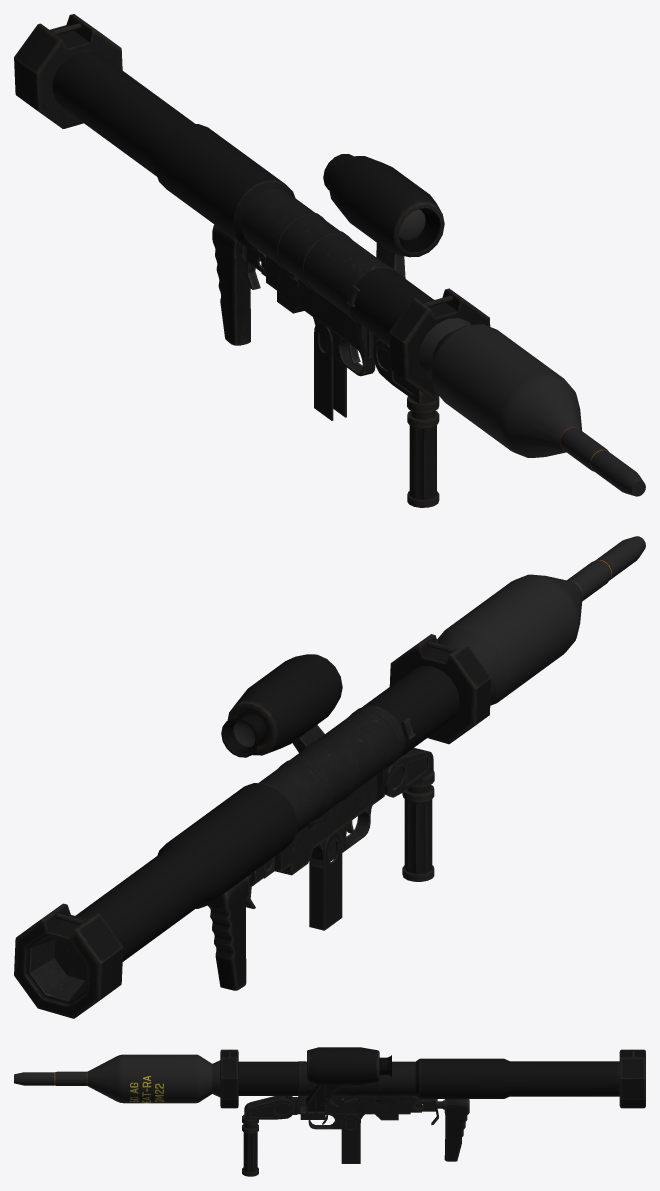
File: Panzerfaust.fbx
3 renders of one model, top to bottom at view 1: azimuth 30°, elevation 25°; view 2: azimuth 150°, elevation 25°; view 3: azimuth 270°, elevation 25°, orthographic. The views are drawn at different scales.
Visible parts, largest first — view 1: Launcher, Rocket, Scope, Base, Front_Grip, Stock, Grip, TIp_front, Tip_back; view 2: Launcher, Rocket, Scope, Base, Front_Grip, Stock, Grip, TIp_front, Tip_back; view 3: Launcher, Rocket, Base, Scope, Front_Grip, Stock, Grip, TIp_front, Tip_back.
Boxes of the visible parts, <box> form: Launcher: <box>14,14,490,398</box>; Rocket: <box>419,318,581,457</box>; Scope: <box>323,154,444,257</box>; Base: <box>261,243,405,376</box>; Front_Grip: <box>373,339,439,507</box>; Stock: <box>212,224,265,345</box>; Grip: <box>314,322,346,420</box>; TIp_front: <box>590,449,645,496</box>; Tip_back: <box>560,427,608,471</box>; Launcher: <box>14,634,491,1018</box>; Rocket: <box>437,574,582,705</box>; Scope: <box>221,654,342,757</box>; Base: <box>264,724,387,878</box>; Front_Grip: <box>384,748,434,881</box>; Stock: <box>208,857,274,990</box>; Grip: <box>309,831,342,930</box>; TIp_front: <box>595,536,645,579</box>; Tip_back: <box>567,560,611,601</box>; Launcher: <box>220,1049,645,1108</box>; Rocket: <box>87,1054,220,1103</box>; Base: <box>285,1084,421,1129</box>; Scope: <box>307,1047,391,1085</box>; Front_Grip: <box>242,1096,294,1176</box>; Stock: <box>412,1099,469,1161</box>; Grip: <box>341,1114,360,1163</box>; TIp_front: <box>14,1072,55,1085</box>; Tip_back: <box>55,1071,87,1085</box>.
Size of the model in its own units: 0.1493 by 0.2871 by 1.2.
